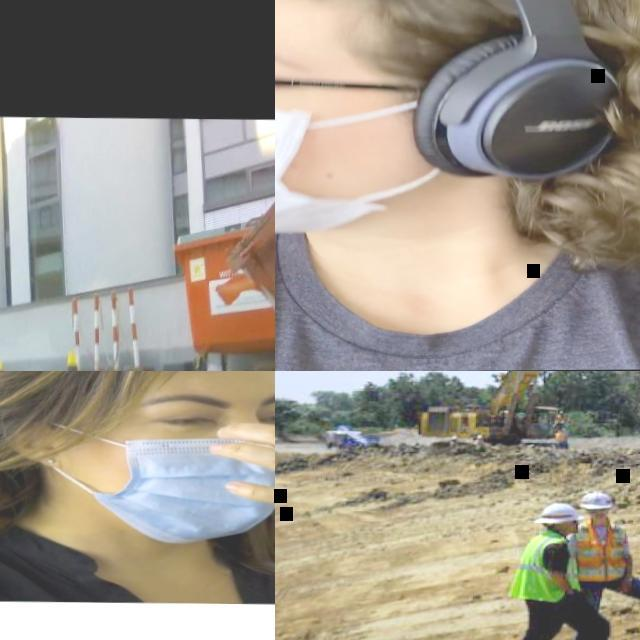helmet: (535, 502, 585, 523), (580, 492, 612, 510), (558, 411, 564, 414), (561, 428, 567, 430)
vest: (507, 530, 583, 604), (574, 525, 628, 582), (556, 432, 566, 441), (556, 414, 566, 422)
